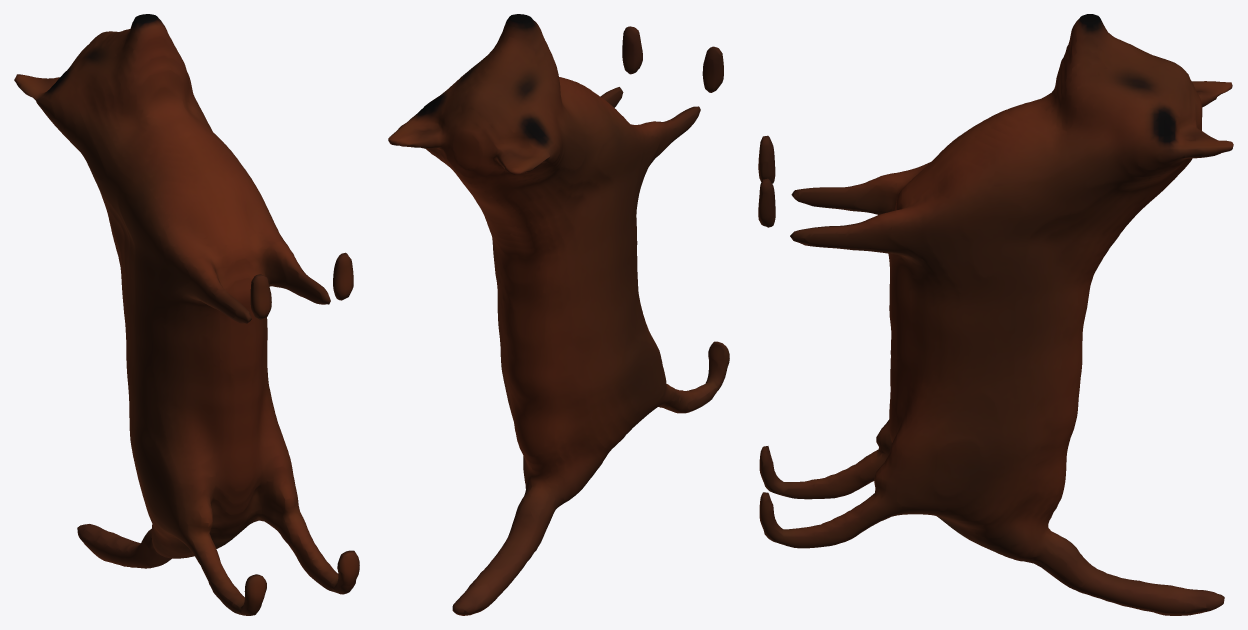
The picture shows the model from 3 angles, left to right: view 1: azimuth 30°, elevation 25°; view 2: azimuth 150°, elevation 25°; view 3: azimuth 270°, elevation 25°; orthographic projection. The views are drawn at different scales.
Parts seen in each view (by area): view 1: plyFile; view 2: plyFile; view 3: plyFile.
Part boxes in pixels (left/top/right/bottom): plyFile: left=14, top=14, right=359, bottom=615; plyFile: left=388, top=14, right=729, bottom=615; plyFile: left=758, top=14, right=1233, bottom=615.
Size of the model in its own units: 51.85 by 198 by 143.
